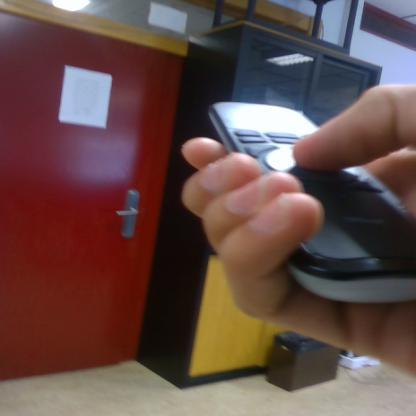door: (0, 9, 145, 364)
lever: (114, 209, 142, 218)
